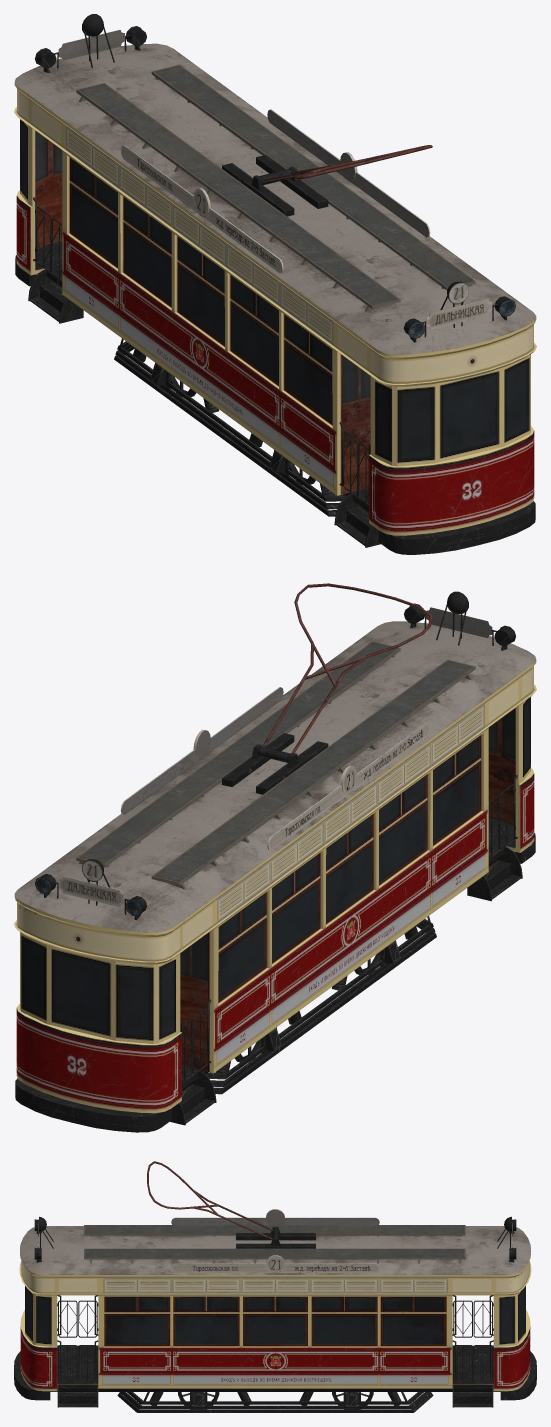
Rendered from godarvilletram.gltf.
3 renders of one model, top to bottom at view 1: azimuth 30°, elevation 25°; view 2: azimuth 150°, elevation 25°; view 3: azimuth 270°, elevation 25°, orthographic. The views are drawn at different scales.
Visible parts, largest first — view 1: GodarvilleTram_Body; view 2: GodarvilleTram_Body; view 3: GodarvilleTram_Body.
Part boxes in pixels (x1,y1,x2,y2): GodarvilleTram_Body: (14,14,536,554); GodarvilleTram_Body: (14,583,536,1132); GodarvilleTram_Body: (14,1161,536,1412).
Bounding box in the file's own units: 2.28 × 4.79 × 10.21.
Materials: 1 (1 with a texture image).
